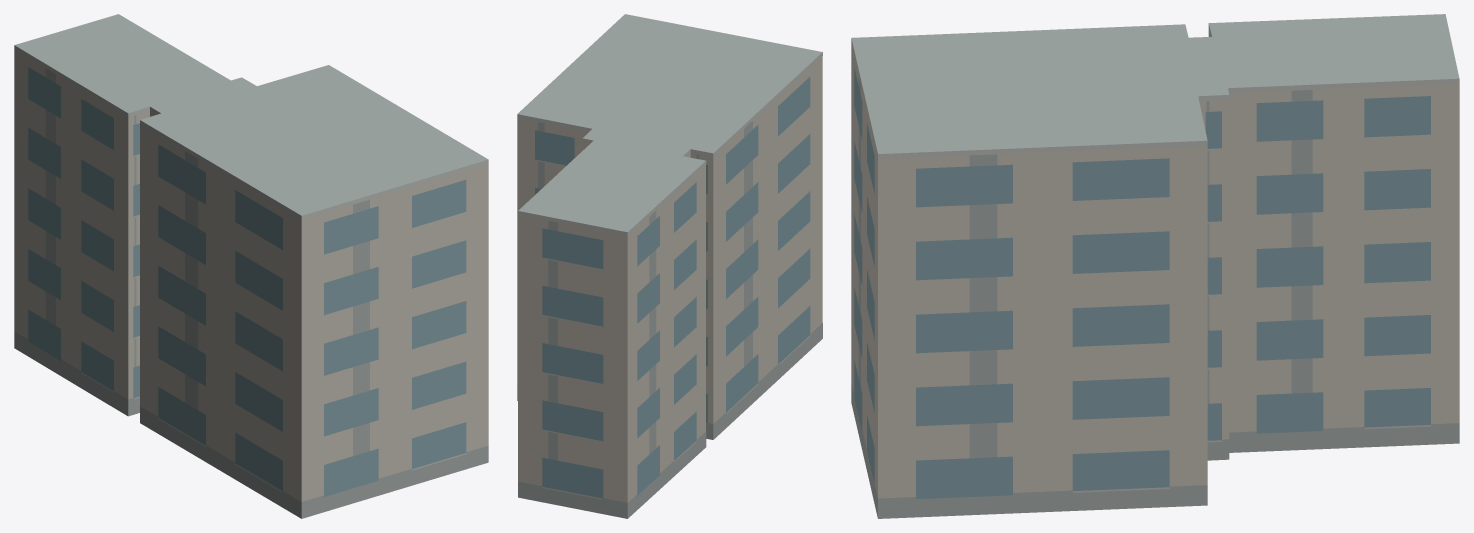
File: survey-upis-32632820.glb
The picture shows the model from 3 angles, left to right: view 1: azimuth 30°, elevation 25°; view 2: azimuth 150°, elevation 25°; view 3: azimuth 270°, elevation 25°; orthographic projection. The views are drawn at different scales.
Parts seen in each view (by area): view 1: survey-upis-32632820.tmp; view 2: survey-upis-32632820.tmp; view 3: survey-upis-32632820.tmp.
Part boxes in pixels (x1,y1,x2,y2): survey-upis-32632820.tmp: (14, 14, 488, 518); survey-upis-32632820.tmp: (517, 14, 822, 518); survey-upis-32632820.tmp: (851, 14, 1459, 518).
Bounding box in the file's own units: 14.26 × 17.3 × 26.15.
